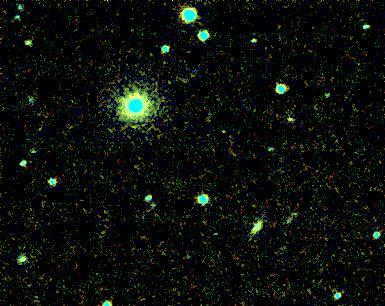star: (211, 115, 241, 145)
